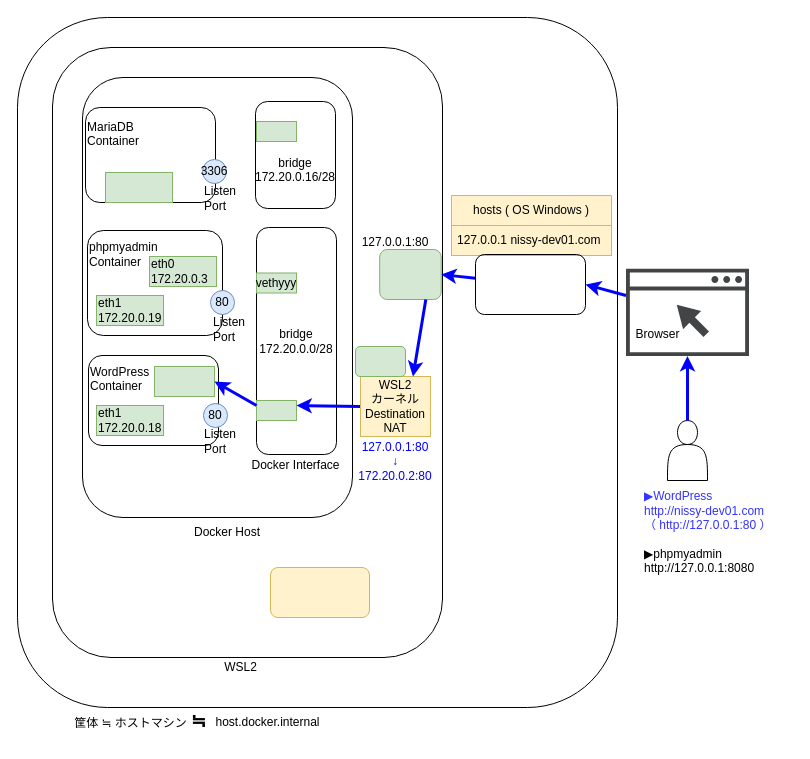
Image size: 810x759. Some labels were removed from this diagram. The box of each missing label's shape, as (x1, y1, x2, y2) in pixels:
Docker Desktop Listner: (379, 248, 441, 300)
dockerd: (354, 346, 406, 376)
eth0 172.20.0.2: (154, 366, 214, 396)
eth0 172.20.0.20: (104, 172, 172, 202)
OS Windows11 127.0.0.1 localhost: (474, 254, 586, 314)
vethxxx: (256, 120, 296, 142)
vethzzz: (256, 400, 296, 420)
WSL2 Ubuntu 作業用シェル: (270, 566, 370, 618)
